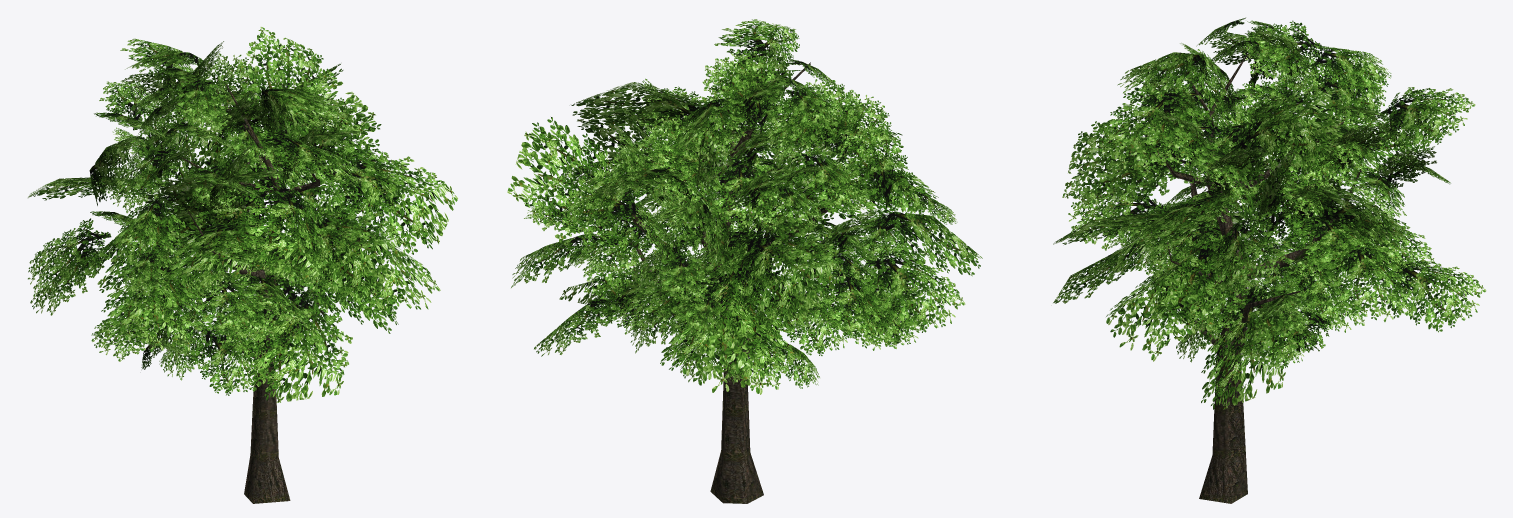
File: tree_a.FBX
3 views of the same model, side by side, from view 1: azimuth 30°, elevation 25°; view 2: azimuth 150°, elevation 25°; view 3: azimuth 270°, elevation 25° (orthographic). The views are drawn at different scales.
Visible parts, largest first — view 1: tree_a; view 2: tree_a; view 3: tree_a.
Boxes of the visible parts, left/top/right/bottom form: tree_a: left=28, top=27, right=457, bottom=503; tree_a: left=507, top=19, right=982, bottom=503; tree_a: left=1053, top=17, right=1486, bottom=503.
Bounding box in the file's own units: 7.74 × 8.34 × 7.59.
Materials: 2 (2 with a texture image).
